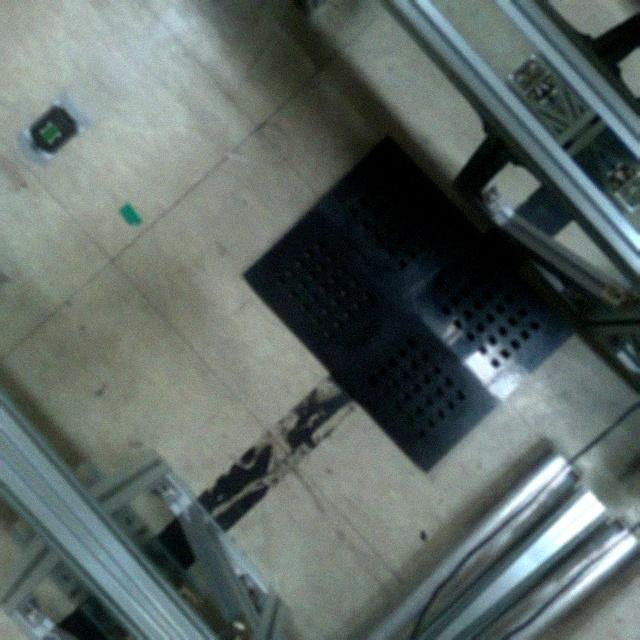pallet: (230, 113, 592, 477)
